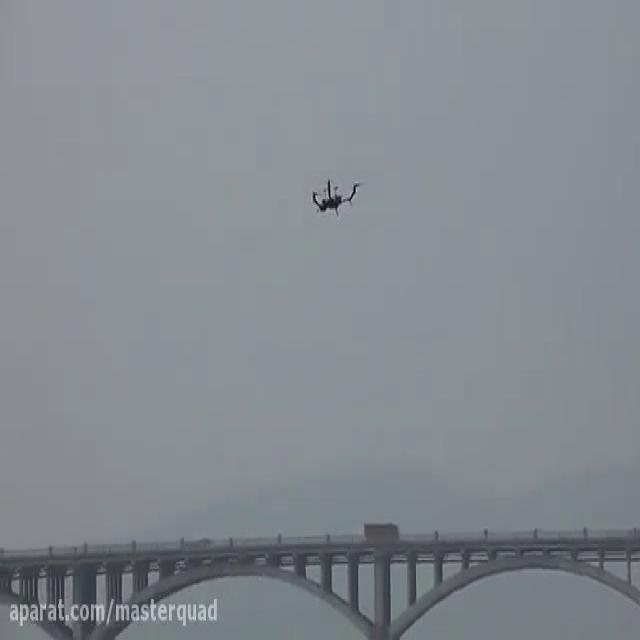drone: (307, 169, 366, 222)
